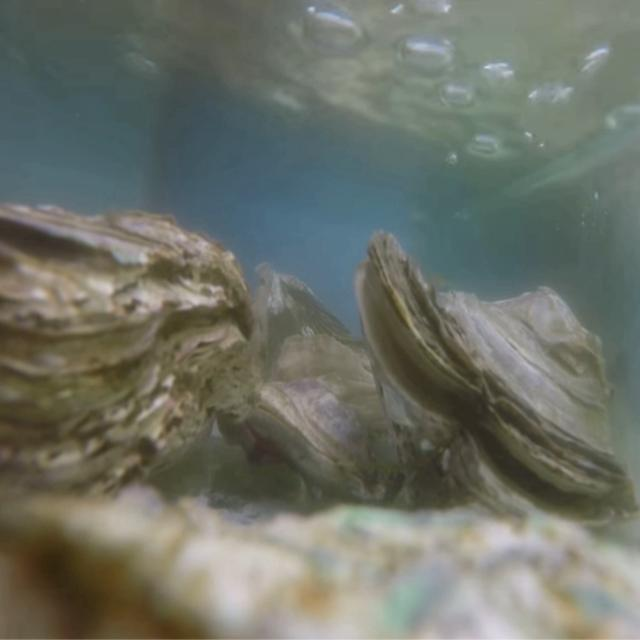Oyster-Closed: (0, 201, 257, 532), (255, 333, 417, 510)
Oyster-Indeterminate: (0, 486, 640, 640), (254, 255, 370, 372)
Oyster-Open: (353, 230, 640, 545)
